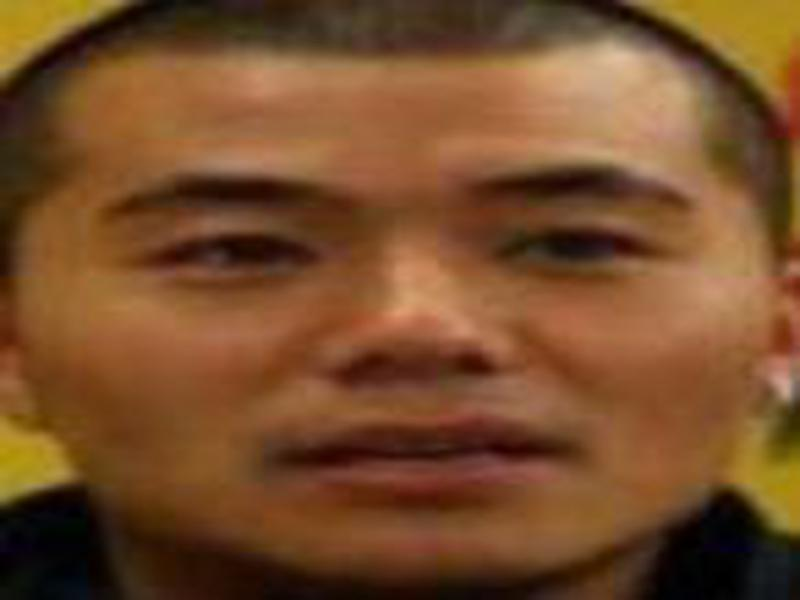without_mask: (34, 63, 721, 584)
